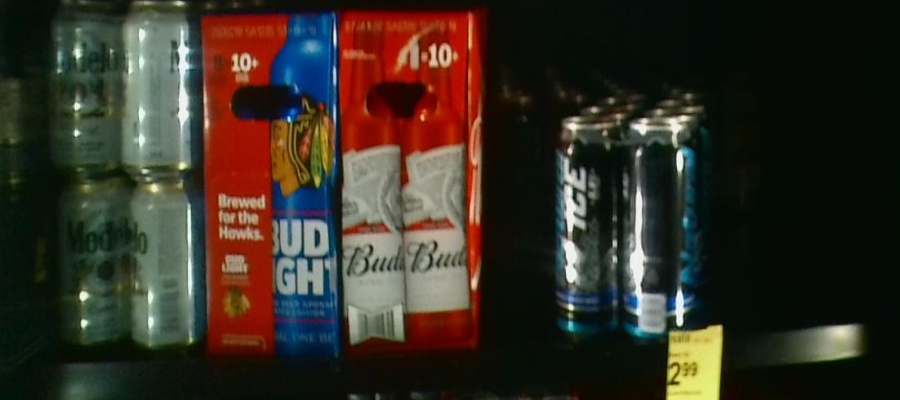bottle: (44, 2, 207, 349), (338, 6, 482, 355), (204, 10, 338, 357), (538, 120, 707, 332), (498, 92, 547, 236), (715, 112, 773, 211)
